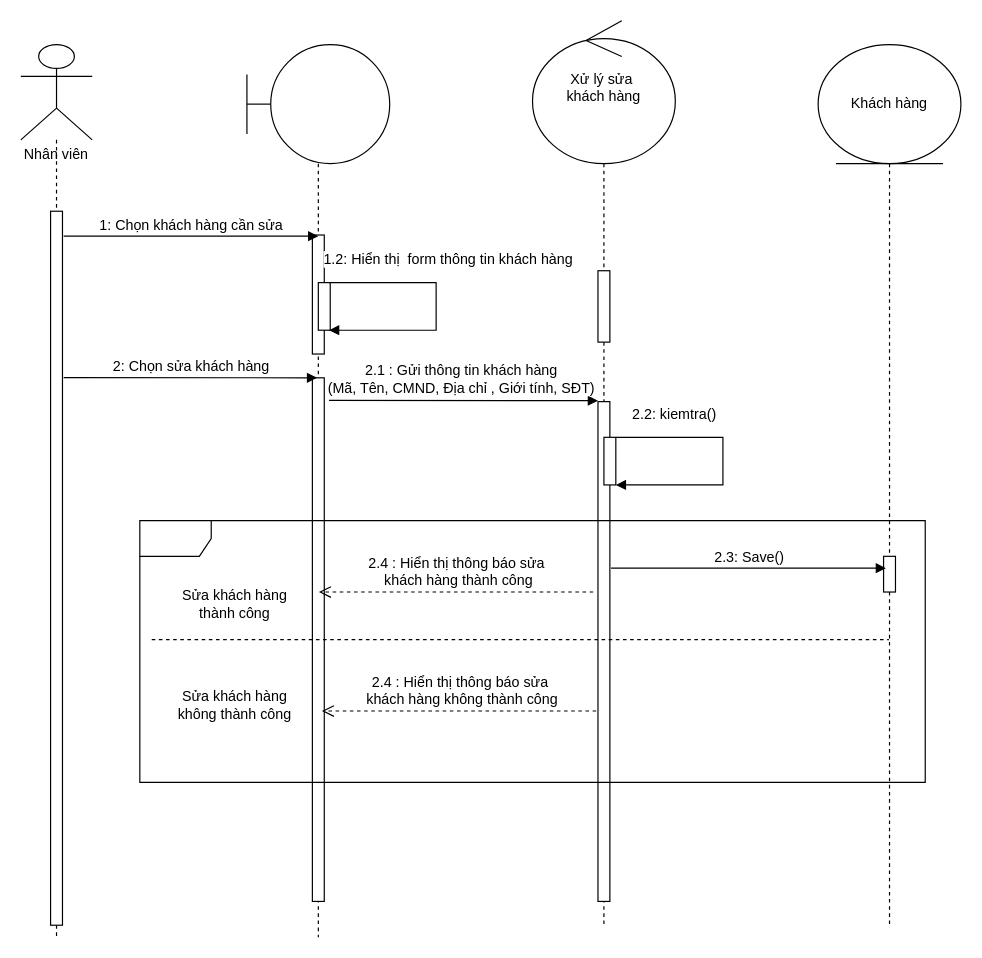
This 982x958 diagram has some shape labels left out. The box of each missing label's shape, as (x1, y1, x2, y2) in pixels:
alt: (139, 519, 925, 782)
Màn hình sửa khách hàng: (246, 43, 390, 937)
